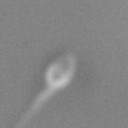normal: (5, 87, 51, 128)
